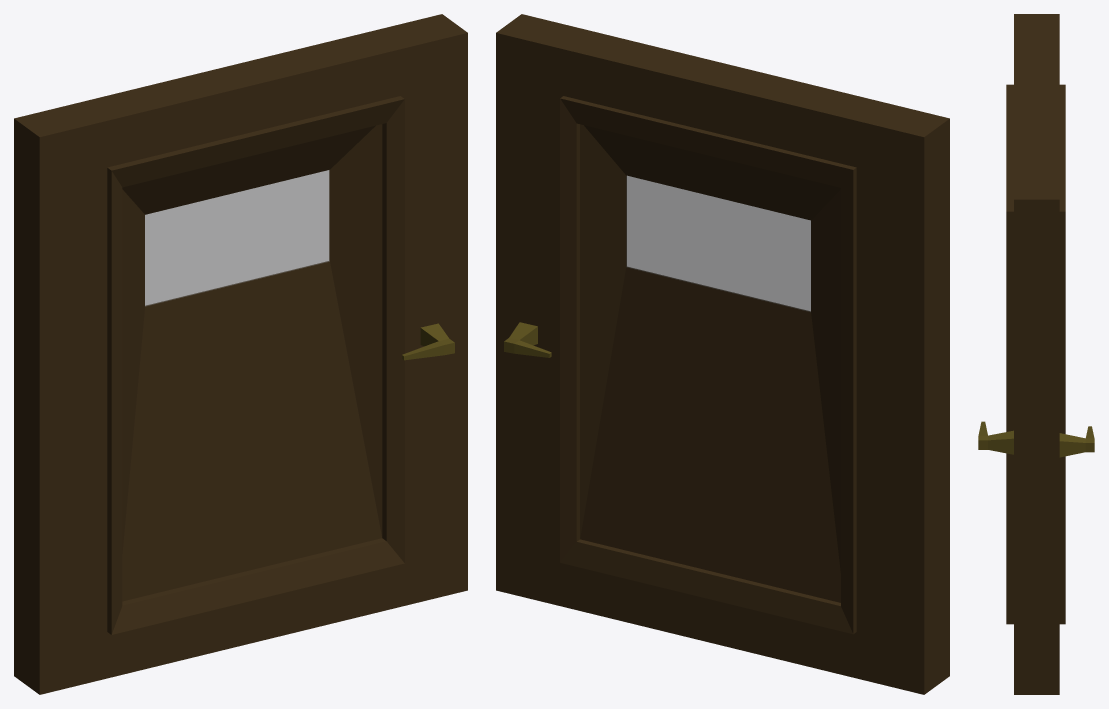
The model's file is Doors.fbx.
The picture shows the model from 3 angles, left to right: view 1: azimuth 30°, elevation 25°; view 2: azimuth 150°, elevation 25°; view 3: azimuth 270°, elevation 25°; orthographic projection. The views are drawn at different scales.
Visible parts, largest first — view 1: pCube2; view 2: pCube2; view 3: pCube2.
Part boxes in pixels (left/top/right/bottom): pCube2: left=14, top=14, right=467, bottom=694; pCube2: left=496, top=14, right=949, bottom=694; pCube2: left=978, top=14, right=1094, bottom=694.
Bounding box in the file's own units: 12.29 × 15.29 × 3.25.
